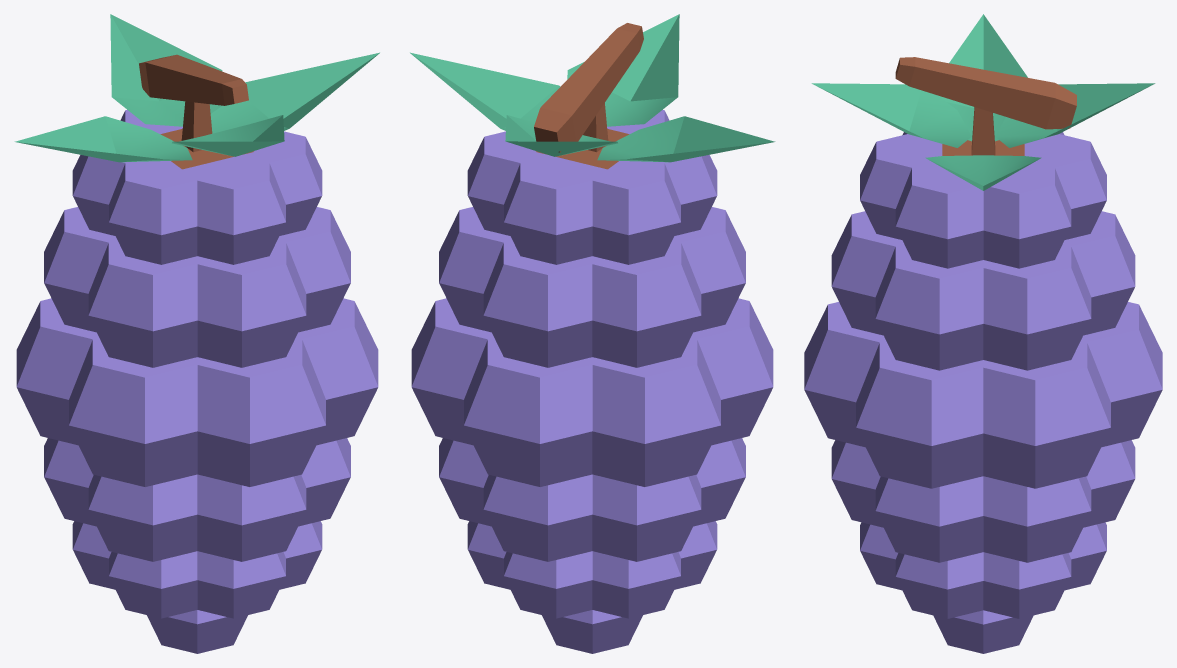
File: grapes.obj
3 views of the same model, side by side, from view 1: azimuth 30°, elevation 25°; view 2: azimuth 150°, elevation 25°; view 3: azimuth 270°, elevation 25° (orthographic).
Parts seen in each view (by area): view 1: grapes; view 2: grapes; view 3: grapes.
Part boxes in pixels (x1,y1,x2,y2): grapes: (14,14,379,653); grapes: (410,14,775,653); grapes: (804,14,1162,653).
Bounding box in the file's own units: 0.279 × 0.4226 × 0.2386.
